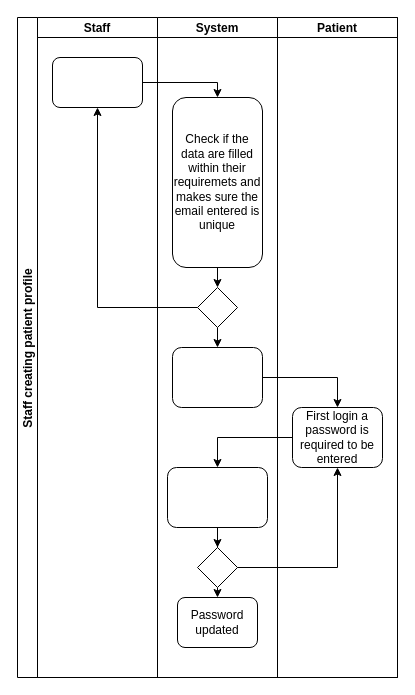
Image size: 415x695. Some labels were removed from this diagram. The shapes that lost their labels are listed below. From the top down, each one's centre as x and y in pixels, then its label:
At pixel 97 82: "Fill form with the new patient data".
At pixel 217 377: "Creates new patient profile".
At pixel 217 497: "Check if the new password meets the requirements".
